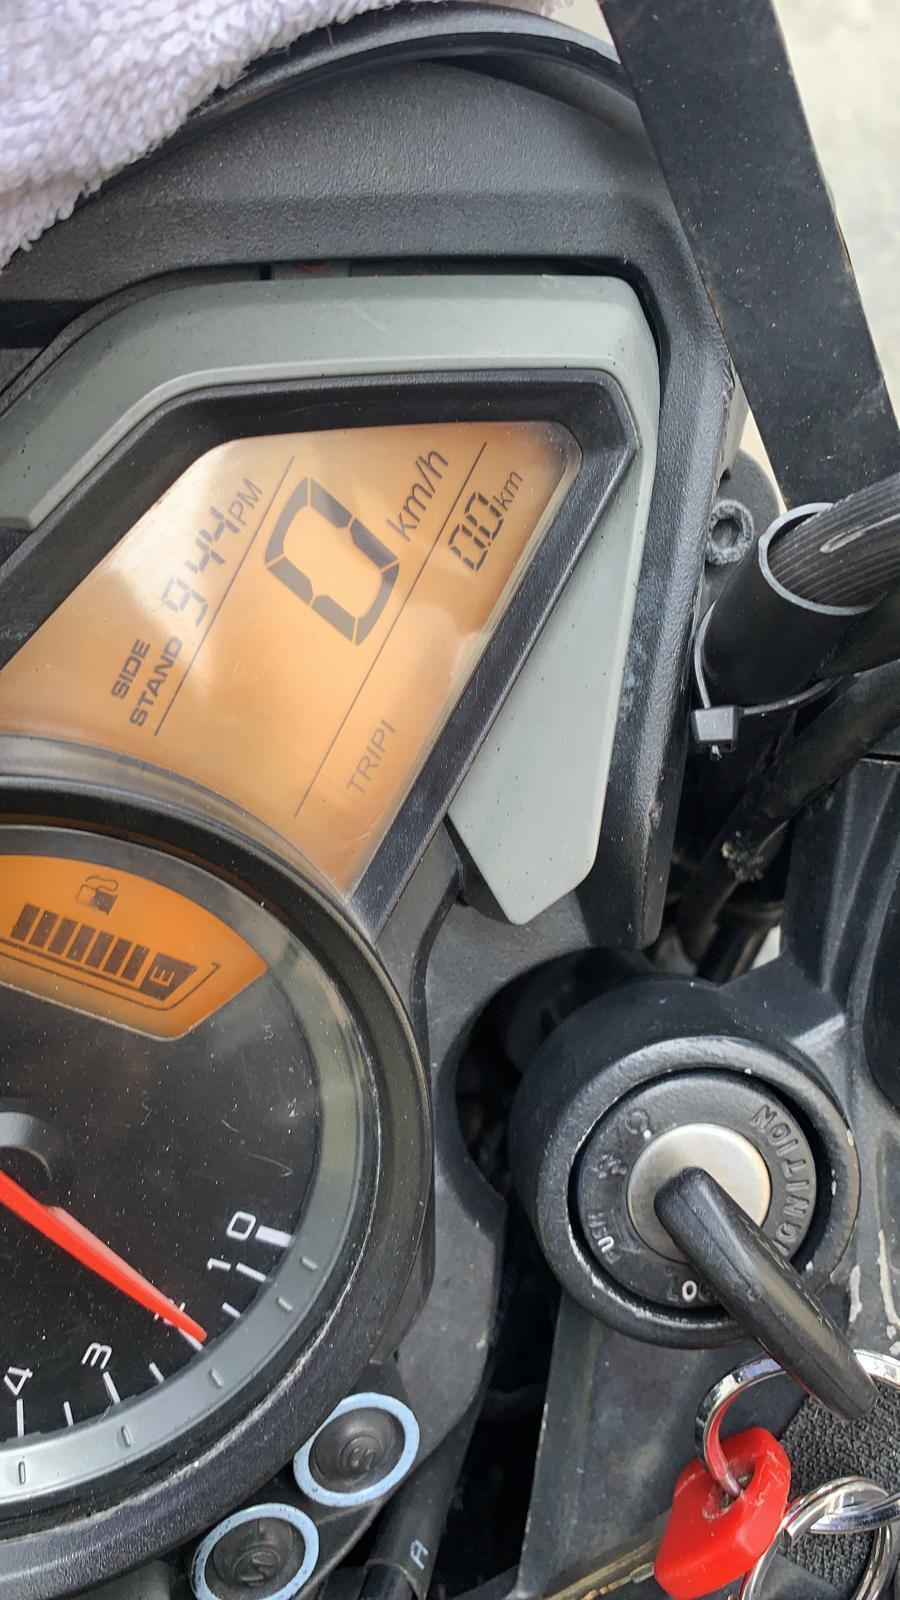,: (486, 538, 493, 548)
0: (258, 474, 404, 649), (445, 522, 489, 573), (462, 489, 505, 538)
1: (380, 716, 395, 732)
4: (197, 505, 241, 542), (184, 538, 226, 573)
9: (160, 575, 207, 626)
X: (402, 481, 430, 523), (386, 511, 415, 542), (418, 451, 448, 478), (236, 475, 262, 508), (412, 459, 435, 492), (502, 469, 524, 498), (355, 754, 377, 780), (227, 500, 249, 525), (491, 490, 512, 512), (153, 655, 173, 678), (163, 635, 182, 658), (129, 638, 149, 658), (121, 655, 141, 675), (370, 727, 386, 753), (346, 773, 364, 795), (127, 705, 146, 725), (109, 679, 127, 698), (136, 689, 155, 707), (144, 678, 164, 695), (365, 744, 382, 762), (116, 670, 133, 684)
odometer: (4, 402, 601, 911)
